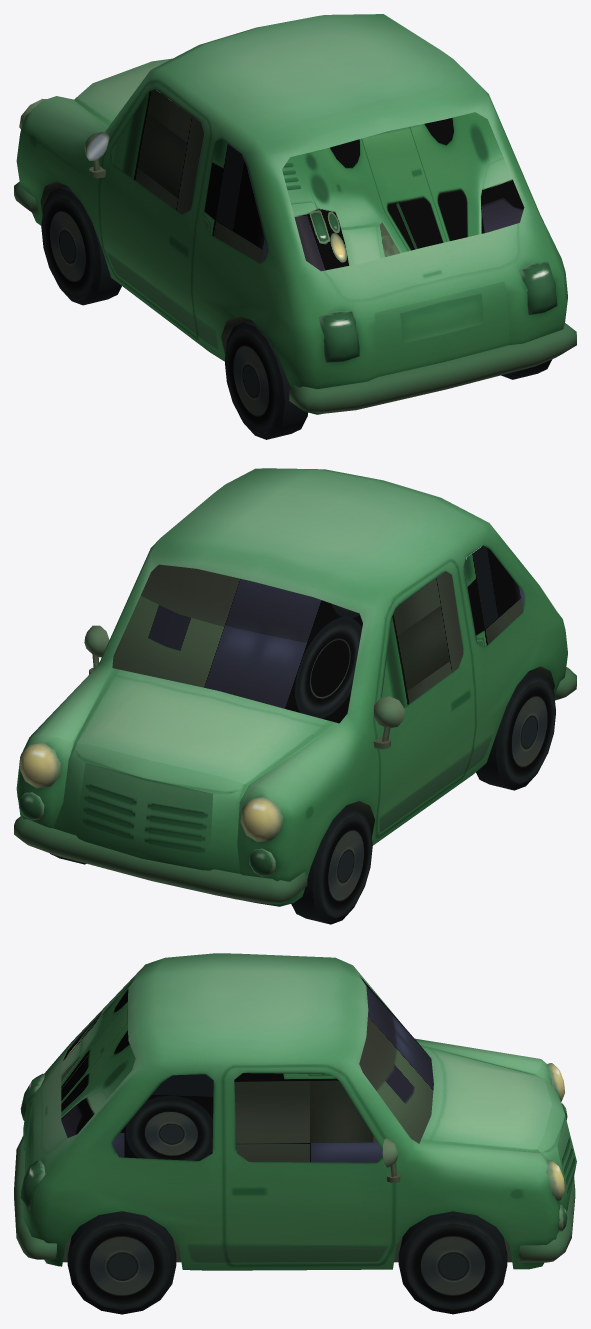
Rendered from car_g3.glb.
3 views of the same model, one above another, from view 1: azimuth 30°, elevation 25°; view 2: azimuth 150°, elevation 25°; view 3: azimuth 270°, elevation 25° (orthographic). The views are drawn at different scales.
Parts seen in each view (by area): view 1: car002, car00b002, car00l006, car00l005; view 2: car002, car00b002, car00l005, car00l006; view 3: car002, car00b002, Object152, Object153.
Boxes of the visible parts, bbox=[...] form: car002: bbox=[14, 14, 576, 414]; car00b002: bbox=[110, 89, 524, 271]; car00l006: bbox=[225, 320, 307, 439]; car00l005: bbox=[41, 186, 121, 305]; car002: bbox=[14, 468, 576, 906]; car00b002: bbox=[112, 545, 524, 723]; car00l005: bbox=[291, 805, 372, 924]; car00l006: bbox=[476, 671, 555, 790]; car002: bbox=[14, 953, 576, 1270]; car00b002: bbox=[61, 976, 433, 1162]; Object152: bbox=[67, 1211, 176, 1314]; Object153: bbox=[398, 1211, 507, 1314].
Bounding box in the file's own units: 2.12 × 1.84 × 3.6.
3 materials, 3 textured.
